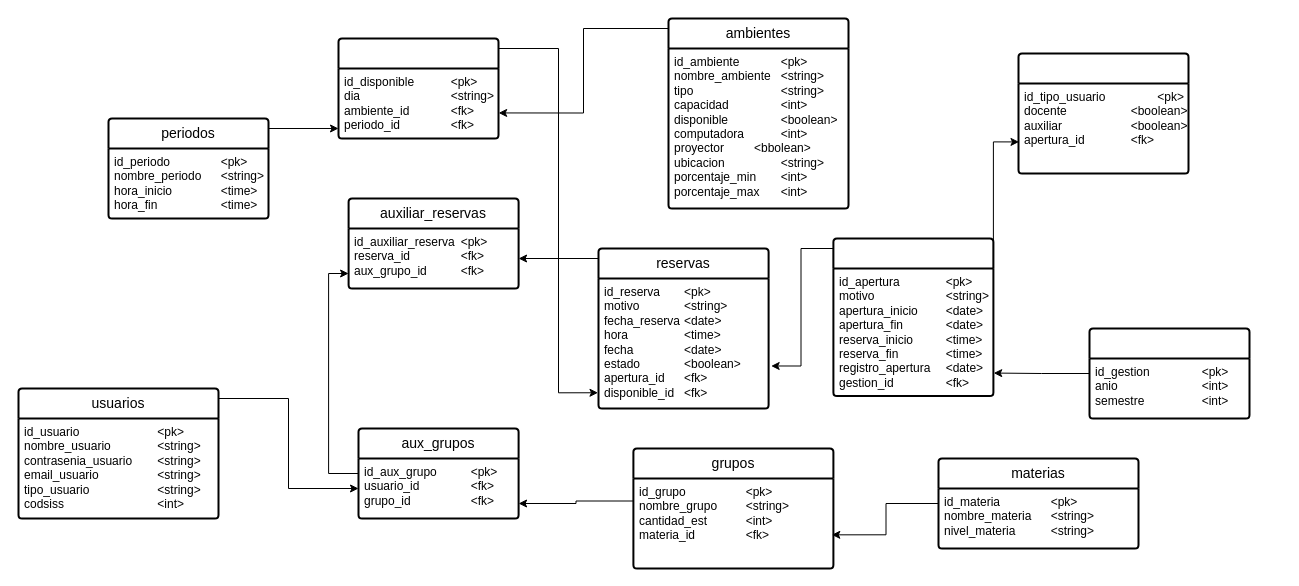
The diagram is 1299 pixels wide and 586 high, and some of its shapes have lost their labels. The box of each missing label's shape, as (x1, y1, x2, y2) in pixels:
aperturas: (832, 237, 994, 396)
disponibles: (337, 37, 499, 139)
gestiones: (1088, 327, 1250, 419)
tipos_usuarios: (1017, 52, 1189, 174)
